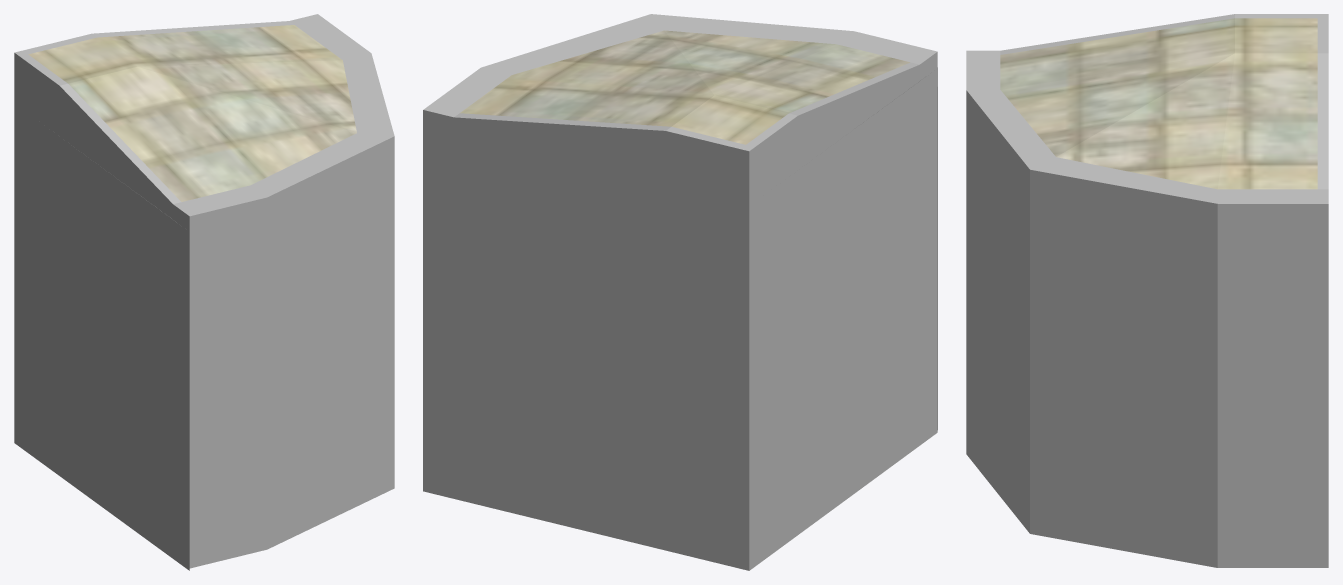
The model's file is road_02_cv_in_hedge.fbx.
3 renders of one model, left to right at view 1: azimuth 30°, elevation 25°; view 2: azimuth 150°, elevation 25°; view 3: azimuth 270°, elevation 25°, orthographic. The views are drawn at different scales.
Parts seen in each view (by area): view 1: road_02_cv_in_hedge; view 2: road_02_cv_in_hedge; view 3: road_02_cv_in_hedge.
Boxes of the visible parts, x1=… form: road_02_cv_in_hedge: x1=14, y1=14, x2=394, y2=570; road_02_cv_in_hedge: x1=423, y1=14, x2=937, y2=570; road_02_cv_in_hedge: x1=966, y1=14, x2=1328, y2=567.
Size of the model in its own units: 1.79 by 2.2 by 1.79.
